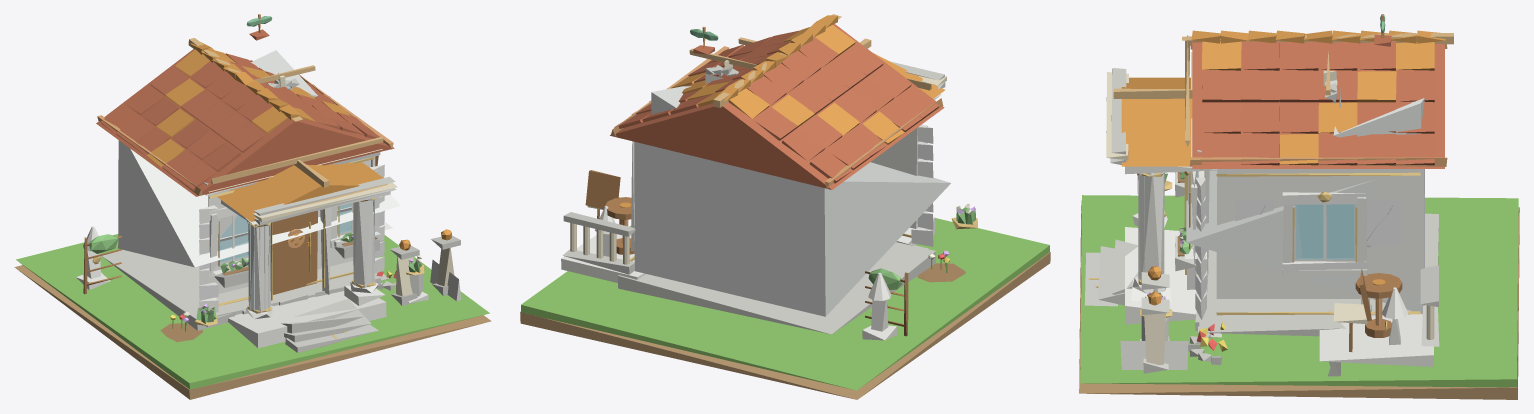
Rendered from villa_l02_active_LOD2.glb.
The picture shows the model from 3 angles, left to right: view 1: azimuth 30°, elevation 25°; view 2: azimuth 150°, elevation 25°; view 3: azimuth 270°, elevation 25°; orthographic projection. The views are drawn at different scales.
Parts seen in each view (by area): view 1: villa_grass_tile_villa_l02_active_LOD2_tmp, villa_l01_active_v2_marble_core_villa_l02_active_LOD2_tmp, villa_l01_active_v2_main_gable_roof_villa_l02_active_LOD2_tm, villa_l01_active_v2_base_stone_block_low_medium_foundation_v, villa_earth_tile_villa_l02_active_LOD2_tmp, villa_l02_active_wide_portico_roof_gable_roof_villa_l02_acti, villa_l02_active_wide_porch_villa_l02_active_LOD2_tmp, villa_l01_active_v2_entry_door_villa_l02_active_LOD2_tmp, villa_l02_active_wide_column_1_shaft_villa_l02_active_LOD2_t, villa_l02_active_wide_column_-1_shaft_villa_l02_active_LOD2_, villa_l01_active_v2_stairs_step_2_villa_l02_active_LOD2_tmp, villa_l01_active_v2_main_roof_front_trim_villa_l02_active_LO (+41 smaller); view 2: villa_l01_active_v2_marble_core_villa_l02_active_LOD2_tmp, villa_grass_tile_villa_l02_active_LOD2_tmp, villa_l01_active_v2_main_gable_roof_villa_l02_active_LOD2_tm, villa_l01_active_v2_base_stone_block_low_medium_foundation_v, villa_earth_tile_villa_l02_active_LOD2_tmp, villa_l01_active_v2_front_marble_cladding_villa_l02_active_L, villa_l02_active_terrace_deck_villa_l02_active_LOD2_tmp, villa_l02_active_chair_back_villa_l02_active_LOD2_tmp, villa_l02_active_terrace_rail_rail_villa_l02_active_LOD2_tmp, villa_l01_active_v2_tile_-1_01_05_villa_l02_active_LOD2_tmp, villa_l01_active_v2_tile_-1_02_05_villa_l02_active_LOD2_tmp, villa_l01_active_v2_tile_-1_02_00_villa_l02_active_LOD2_tmp (+27 smaller); view 3: villa_grass_tile_villa_l02_active_LOD2_tmp, villa_l01_active_v2_right_marble_cladding_villa_l02_active_L, villa_l01_active_v2_marble_core_villa_l02_active_LOD2_tmp, villa_l01_active_v2_base_stone_block_low_medium_foundation_v, villa_earth_tile_villa_l02_active_LOD2_tmp, villa_l02_active_wide_portico_roof_gable_roof_villa_l02_acti, villa_l01_active_v2_main_gable_roof_villa_l02_active_LOD2_tm, villa_l02_active_terrace_deck_villa_l02_active_LOD2_tmp, villa_l01_active_v2_side_window_glass_villa_l02_active_LOD2_, villa_l02_active_wide_porch_villa_l02_active_LOD2_tmp, villa_l02_active_wide_column_1_shaft_villa_l02_active_LOD2_t, villa_l02_active_attic_wall_villa_l02_active_LOD2_tmp (+54 smaller).
Boxes of the visible parts, x1=… form: villa_grass_tile_villa_l02_active_LOD2_tmp: x1=16, y1=234, x2=489, y2=389; villa_l01_active_v2_marble_core_villa_l02_active_LOD2_tmp: x1=118, y1=140, x2=400, y2=267; villa_l01_active_v2_main_gable_roof_villa_l02_active_LOD2_tm: x1=96, y1=49, x2=394, y2=196; villa_l01_active_v2_base_stone_block_low_medium_foundation_v: x1=102, y1=250, x2=389, y2=330; villa_earth_tile_villa_l02_active_LOD2_tmp: x1=14, y1=265, x2=491, y2=399; villa_l02_active_wide_portico_roof_gable_roof_villa_l02_acti: x1=217, y1=162, x2=383, y2=221; villa_l02_active_wide_porch_villa_l02_active_LOD2_tmp: x1=227, y1=291, x2=386, y2=348; villa_l01_active_v2_entry_door_villa_l02_active_LOD2_tmp: x1=269, y1=210, x2=317, y2=294; villa_l02_active_wide_column_1_shaft_villa_l02_active_LOD2_t: x1=353, y1=200, x2=374, y2=287; villa_l02_active_wide_column_-1_shaft_villa_l02_active_LOD2_: x1=248, y1=223, x2=271, y2=313; villa_l01_active_v2_stairs_step_2_villa_l02_active_LOD2_tmp: x1=281, y1=298, x2=363, y2=333; villa_l01_active_v2_main_roof_front_trim_villa_l02_active_LO: x1=211, y1=137, x2=383, y2=184; villa_l01_active_v2_marble_core_villa_l02_active_LOD2_tmp: x1=634, y1=142, x2=950, y2=316; villa_grass_tile_villa_l02_active_LOD2_tmp: x1=521, y1=218, x2=1049, y2=390; villa_l01_active_v2_main_gable_roof_villa_l02_active_LOD2_tm: x1=610, y1=24, x2=944, y2=189; villa_l01_active_v2_base_stone_block_low_medium_foundation_v: x1=618, y1=242, x2=935, y2=334; villa_earth_tile_villa_l02_active_LOD2_tmp: x1=520, y1=252, x2=1050, y2=399; villa_l01_active_v2_front_marble_cladding_villa_l02_active_L: x1=871, y1=128, x2=917, y2=228; villa_l02_active_terrace_deck_villa_l02_active_LOD2_tmp: x1=561, y1=234, x2=645, y2=282; villa_l02_active_chair_back_villa_l02_active_LOD2_tmp: x1=585, y1=170, x2=620, y2=209; villa_l02_active_terrace_rail_rail_villa_l02_active_LOD2_tmp: x1=563, y1=212, x2=635, y2=236; villa_l01_active_v2_tile_-1_01_05_villa_l02_active_LOD2_tmp: x1=753, y1=107, x2=797, y2=140; villa_l01_active_v2_tile_-1_02_05_villa_l02_active_LOD2_tmp: x1=781, y1=128, x2=825, y2=161; villa_l01_active_v2_tile_-1_02_00_villa_l02_active_LOD2_tmp: x1=868, y1=65, x2=911, y2=98; villa_grass_tile_villa_l02_active_LOD2_tmp: x1=1080, y1=195, x2=1518, y2=387; villa_l01_active_v2_right_marble_cladding_villa_l02_active_L: x1=1216, y1=169, x2=1420, y2=299; villa_l01_active_v2_marble_core_villa_l02_active_LOD2_tmp: x1=1186, y1=169, x2=1424, y2=314; villa_l01_active_v2_base_stone_block_low_medium_foundation_v: x1=1198, y1=213, x2=1438, y2=336; villa_earth_tile_villa_l02_active_LOD2_tmp: x1=1079, y1=205, x2=1519, y2=399; villa_l02_active_wide_portico_roof_gable_roof_villa_l02_acti: x1=1121, y1=77, x2=1192, y2=166; villa_l01_active_v2_main_gable_roof_villa_l02_active_LOD2_tm: x1=1192, y1=42, x2=1444, y2=168; villa_l02_active_terrace_deck_villa_l02_active_LOD2_tmp: x1=1319, y1=314, x2=1433, y2=366; villa_l01_active_v2_side_window_glass_villa_l02_active_LOD2_: x1=1295, y1=204, x2=1354, y2=259; villa_l02_active_wide_porch_villa_l02_active_LOD2_tmp: x1=1125, y1=227, x2=1196, y2=324; villa_l02_active_wide_column_1_shaft_villa_l02_active_LOD2_t: x1=1138, y1=173, x2=1164, y2=281; villa_l02_active_attic_wall_villa_l02_active_LOD2_tmp: x1=1333, y1=98, x2=1424, y2=137.
Size of what is drawn, in the model's own units: 3.6 by 2.86 by 3.6.
